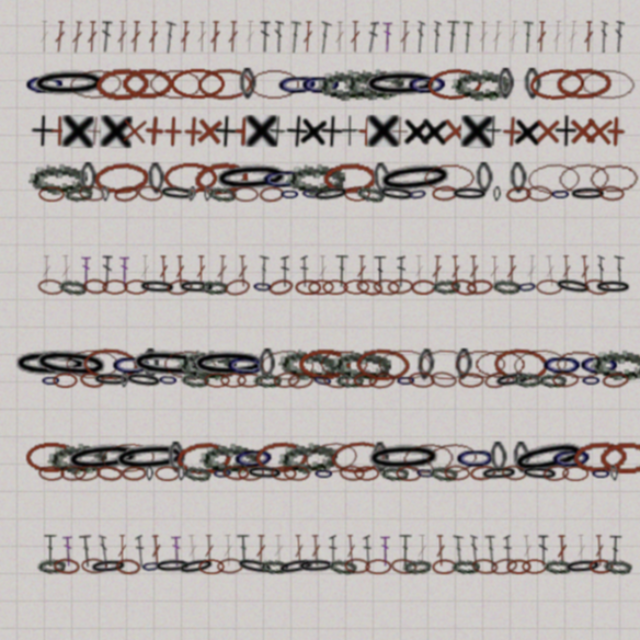chain: (473, 424, 549, 466), (352, 172, 426, 208), (67, 427, 141, 463), (38, 342, 112, 377), (111, 428, 184, 462), (203, 173, 276, 206), (127, 343, 200, 376), (342, 429, 415, 461), (37, 88, 109, 119), (340, 89, 412, 119), (20, 345, 92, 374), (183, 345, 255, 374), (263, 343, 319, 376), (263, 428, 319, 461), (286, 427, 338, 462), (299, 88, 354, 120), (53, 429, 108, 461), (397, 428, 448, 462), (311, 428, 363, 461), (324, 88, 379, 119), (492, 88, 545, 120), (186, 173, 237, 206), (157, 344, 209, 376), (72, 88, 123, 120), (399, 88, 450, 120), (95, 174, 146, 206), (101, 429, 152, 461), (170, 429, 221, 461), (422, 89, 476, 119), (36, 175, 90, 205), (271, 175, 325, 205), (313, 345, 367, 375), (192, 430, 246, 460), (477, 344, 529, 375), (376, 429, 426, 461), (517, 88, 568, 119), (85, 344, 136, 375), (391, 344, 442, 375), (172, 345, 226, 374), (549, 345, 603, 374), (96, 88, 146, 119), (518, 174, 568, 205), (334, 344, 384, 375), (460, 344, 510, 375), (242, 429, 292, 460), (532, 429, 582, 460), (539, 89, 590, 119), (190, 89, 240, 119), (304, 175, 354, 205), (490, 175, 540, 205), (247, 345, 297, 375), (165, 89, 216, 118), (546, 175, 595, 205), (515, 345, 564, 375), (145, 89, 195, 118), (69, 345, 119, 374), (354, 345, 404, 374), (236, 89, 285, 118), (159, 175, 208, 204), (395, 175, 444, 204), (282, 345, 331, 374), (424, 345, 473, 374), (442, 345, 491, 374), (33, 430, 82, 459), (557, 430, 606, 459), (121, 89, 169, 118), (300, 345, 348, 374), (261, 88, 302, 119), (247, 174, 288, 205), (221, 429, 262, 460), (511, 429, 552, 460), (214, 345, 255, 375), (31, 89, 71, 118), (283, 89, 323, 118), (380, 89, 420, 118), (110, 345, 150, 374), (503, 345, 543, 374), (537, 345, 577, 374), (424, 430, 464, 459), (224, 534, 261, 554), (262, 534, 299, 554), (171, 534, 207, 554), (515, 279, 551, 298), (460, 364, 496, 383), (294, 195, 330, 213), (354, 195, 390, 213), (123, 365, 159, 383), (154, 195, 190, 212), (91, 536, 127, 552), (524, 536, 560, 552), (136, 281, 171, 297), (448, 451, 483, 467), (485, 451, 520, 467), (94, 366, 129, 381), (234, 451, 269, 466), (150, 536, 185, 551), (281, 536, 316, 551), (144, 175, 161, 205), (350, 175, 367, 205), (390, 345, 407, 375), (349, 430, 366, 460), (334, 195, 362, 213), (421, 197, 456, 211), (529, 197, 564, 211), (172, 282, 207, 296), (552, 282, 587, 296), (161, 280, 187, 298), (334, 280, 360, 298), (420, 280, 446, 298), (457, 535, 483, 553), (228, 89, 244, 118), (488, 89, 504, 118), (444, 175, 460, 204), (475, 175, 491, 204), (425, 345, 441, 374), (163, 430, 179, 459), (457, 430, 473, 459), (478, 430, 494, 459), (113, 195, 138, 213), (214, 280, 239, 298), (254, 280, 279, 298), (542, 280, 567, 298), (451, 365, 476, 383), (464, 89, 479, 118), (83, 175, 98, 204), (140, 345, 155, 374), (246, 345, 261, 374), (68, 196, 95, 212), (199, 196, 226, 212), (63, 281, 90, 297), (176, 451, 203, 467), (401, 451, 428, 467), (309, 536, 336, 552), (377, 536, 404, 552), (560, 536, 587, 552), (81, 195, 106, 212), (259, 365, 284, 382), (402, 365, 427, 382), (77, 450, 102, 467), (438, 450, 463, 467), (505, 450, 530, 467), (135, 195, 159, 212), (82, 365, 106, 382), (44, 281, 69, 297), (350, 281, 375, 297), (435, 281, 460, 297), (272, 366, 297, 382), (304, 366, 329, 382), (346, 366, 371, 382), (559, 366, 584, 382), (97, 451, 122, 467), (366, 536, 391, 552), (440, 536, 465, 552), (404, 281, 430, 296), (459, 281, 485, 296), (175, 366, 201, 381), (478, 366, 504, 381), (44, 536, 70, 551), (246, 196, 270, 212), (471, 196, 495, 212), (115, 536, 139, 552), (363, 281, 388, 296), (382, 366, 407, 381), (268, 451, 293, 466), (58, 536, 83, 551), (192, 282, 218, 296), (241, 367, 267, 381), (316, 367, 342, 381), (501, 367, 527, 381), (357, 452, 383, 466), (247, 537, 273, 551), (422, 537, 448, 551), (506, 537, 532, 551), (404, 196, 428, 211), (490, 196, 514, 211), (556, 196, 580, 211), (85, 281, 109, 296), (514, 366, 538, 381), (65, 451, 89, 466), (213, 451, 237, 466), (227, 451, 251, 466), (319, 451, 343, 466), (415, 451, 439, 466), (467, 451, 491, 466), (84, 536, 108, 551), (208, 536, 232, 551), (324, 536, 348, 551), (45, 197, 69, 211), (222, 197, 246, 211), (324, 197, 348, 211), (103, 282, 127, 296), (279, 282, 303, 296), (291, 282, 315, 296), (304, 282, 328, 296), (323, 282, 347, 296), (499, 282, 523, 296), (196, 367, 220, 381), (211, 367, 235, 381), (226, 367, 250, 381), (294, 366, 315, 382), (428, 367, 452, 381), (45, 452, 69, 466), (257, 452, 281, 466), (371, 452, 395, 466), (523, 452, 547, 466), (191, 537, 215, 551), (343, 537, 367, 551), (123, 282, 146, 296), (385, 282, 408, 296), (58, 367, 81, 381), (332, 367, 355, 381), (121, 452, 144, 466), (151, 452, 174, 466), (333, 452, 356, 466), (404, 537, 427, 551), (472, 537, 495, 551), (486, 537, 509, 551), (547, 537, 570, 551), (381, 196, 401, 212), (284, 196, 304, 211), (481, 281, 501, 296), (203, 451, 223, 466), (138, 536, 158, 551), (240, 281, 259, 296), (154, 366, 173, 381), (389, 451, 408, 466), (265, 197, 284, 211), (512, 197, 531, 211), (47, 367, 66, 381), (371, 367, 390, 381), (540, 367, 559, 381), (296, 452, 315, 466), (549, 452, 568, 466), (566, 452, 575, 466), (102, 197, 110, 211), (181, 197, 189, 211), (196, 197, 203, 211), (460, 197, 467, 211), (120, 367, 127, 381), (143, 452, 150, 466), (172, 452, 179, 466)
double: (299, 46, 313, 76), (82, 515, 96, 545), (416, 46, 430, 75), (74, 46, 87, 76), (158, 46, 171, 76), (272, 46, 285, 75), (226, 515, 239, 544), (565, 515, 578, 544), (101, 46, 113, 75), (128, 46, 140, 75), (344, 46, 356, 75), (430, 46, 442, 75), (485, 46, 497, 75), (316, 260, 328, 289), (351, 260, 363, 289), (506, 260, 518, 289), (50, 515, 62, 544), (180, 515, 192, 544), (374, 515, 386, 544), (59, 46, 70, 75), (116, 46, 127, 75), (201, 46, 212, 75), (217, 46, 228, 75), (374, 46, 385, 75), (458, 46, 469, 75), (473, 46, 484, 75), (513, 46, 524, 75), (527, 46, 538, 75), (569, 46, 580, 75), (207, 260, 218, 289), (226, 260, 237, 289), (245, 260, 256, 289), (403, 260, 414, 289), (437, 260, 448, 289), (147, 515, 158, 544), (259, 515, 270, 544), (293, 515, 304, 544), (325, 515, 336, 544), (423, 515, 434, 544), (452, 515, 463, 544), (486, 515, 497, 544), (89, 46, 99, 75), (145, 46, 155, 75), (174, 46, 184, 75), (189, 46, 199, 75), (233, 46, 243, 75), (247, 46, 257, 75), (259, 46, 269, 75), (286, 46, 296, 75), (315, 46, 325, 75), (329, 46, 339, 75), (446, 46, 456, 75), (499, 46, 509, 75), (542, 46, 552, 75), (65, 260, 75, 289), (103, 260, 113, 289), (335, 260, 345, 289), (421, 260, 431, 289), (456, 260, 466, 289), (472, 260, 482, 289), (490, 260, 500, 289), (522, 260, 532, 289), (539, 260, 549, 289), (570, 260, 580, 289), (67, 515, 77, 544), (100, 515, 110, 544), (133, 515, 143, 544), (166, 515, 176, 544), (196, 515, 206, 544), (213, 515, 223, 544), (243, 515, 253, 544), (278, 515, 288, 544), (390, 515, 400, 544), (407, 515, 417, 544), (501, 515, 511, 544), (518, 515, 528, 544), (552, 515, 562, 544), (46, 46, 55, 75), (359, 46, 368, 75), (389, 46, 398, 75), (404, 46, 413, 75), (48, 260, 57, 289), (84, 260, 93, 289), (119, 260, 128, 289), (138, 260, 147, 289), (155, 260, 164, 289), (170, 260, 179, 289), (189, 260, 198, 289), (300, 260, 309, 289), (388, 260, 397, 289), (117, 515, 126, 544), (341, 515, 350, 544), (357, 515, 366, 544), (469, 515, 478, 544), (536, 515, 545, 544), (557, 46, 565, 75), (266, 260, 274, 289), (284, 260, 292, 289), (372, 260, 380, 289), (310, 515, 318, 544), (439, 515, 447, 544), (555, 260, 562, 289)
noise: (596, 125, 628, 141), (620, 38, 638, 56), (609, 464, 626, 481)
single: (81, 131, 112, 162), (117, 131, 148, 162), (410, 131, 441, 162), (541, 131, 572, 162), (136, 131, 166, 162), (186, 131, 216, 162), (66, 132, 96, 162), (101, 132, 131, 162), (153, 132, 183, 162), (171, 132, 201, 162), (330, 132, 360, 162), (430, 132, 460, 162), (462, 132, 492, 162), (557, 132, 587, 162), (282, 131, 311, 162), (392, 131, 421, 162), (218, 132, 247, 162), (477, 132, 506, 162), (50, 132, 79, 161), (234, 132, 263, 161), (345, 132, 374, 161), (360, 132, 389, 161), (495, 132, 524, 161), (527, 132, 556, 161), (377, 132, 404, 161), (269, 132, 293, 162), (204, 132, 227, 162), (301, 132, 324, 162), (37, 132, 60, 161), (515, 132, 537, 161), (255, 132, 272, 162), (322, 132, 337, 161), (453, 132, 468, 161)
